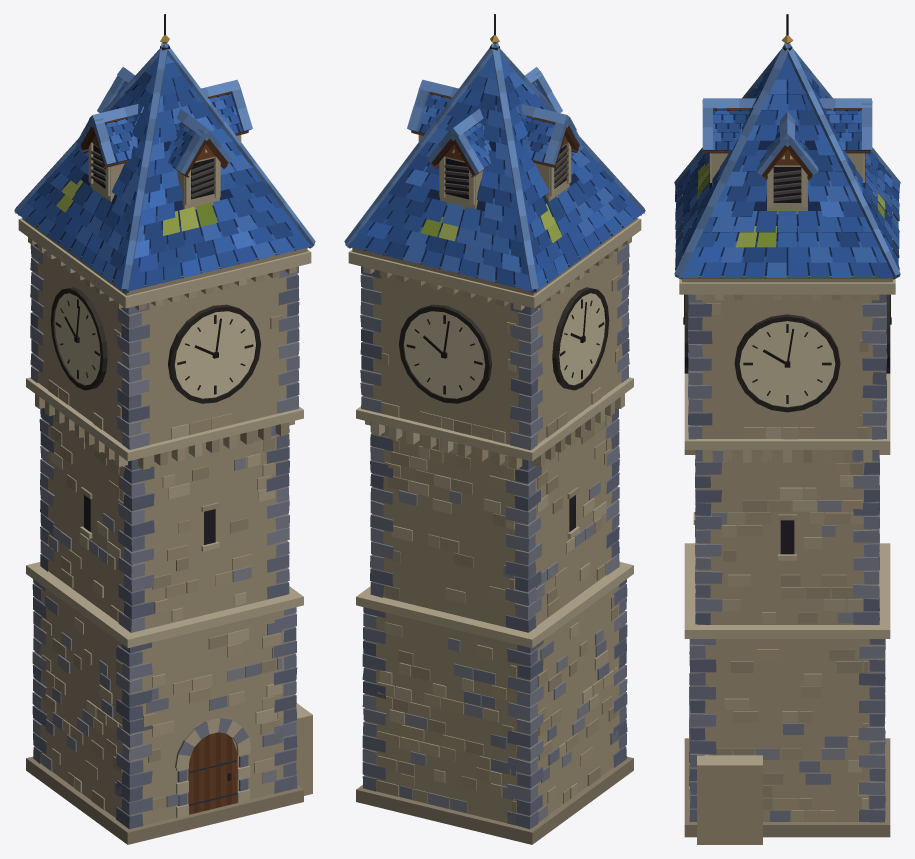
Rendered from town_clock_tower.glb.
3 renders of one model, left to right at view 1: azimuth 30°, elevation 25°; view 2: azimuth 150°, elevation 25°; view 3: azimuth 270°, elevation 25°, orthographic.
Visible parts, largest first — view 1: town_clock_tower; view 2: town_clock_tower; view 3: town_clock_tower.
Boxes of the visible parts, x1,y1,x2,y2 form: town_clock_tower: [14, 14, 315, 844]; town_clock_tower: [344, 14, 645, 844]; town_clock_tower: [674, 14, 900, 844].
Bounding box in the file's own units: 8.53 × 31.4 × 8.27.
